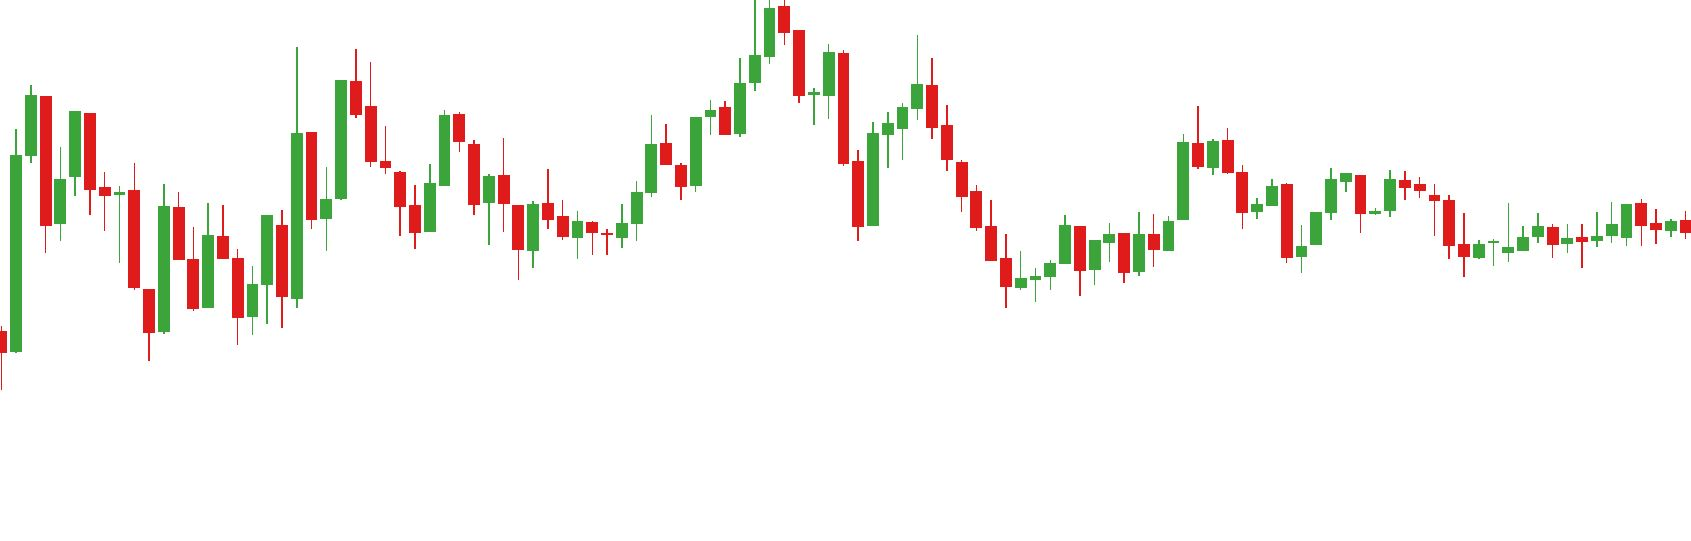sell: (65, 46, 322, 268)
